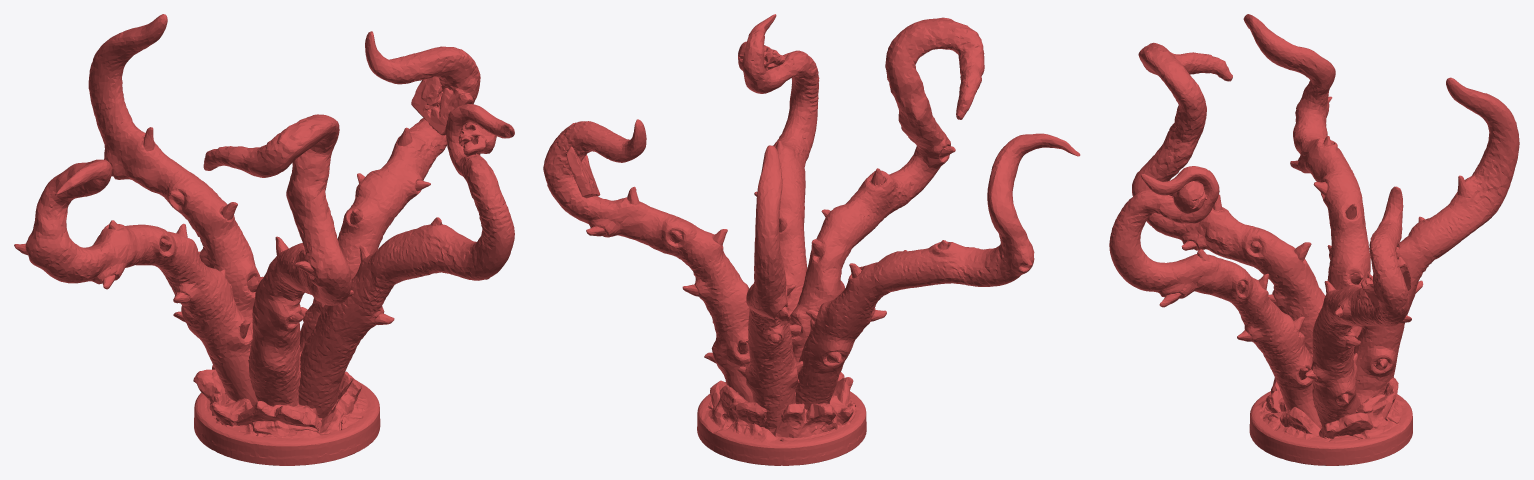
Rendered from reacher.glb.
3 renders of one model, left to right at view 1: azimuth 30°, elevation 25°; view 2: azimuth 150°, elevation 25°; view 3: azimuth 270°, elevation 25°, orthographic. The views are drawn at different scales.
Parts seen in each view (by area): view 1: reacher; view 2: reacher; view 3: reacher.
Boxes of the visible parts, bbox=[...] form: reacher: bbox=[14, 14, 514, 465]; reacher: bbox=[543, 14, 1080, 465]; reacher: bbox=[1109, 14, 1519, 465].
Bounding box in the file's own units: 94.44 × 70.99 × 75.82.
